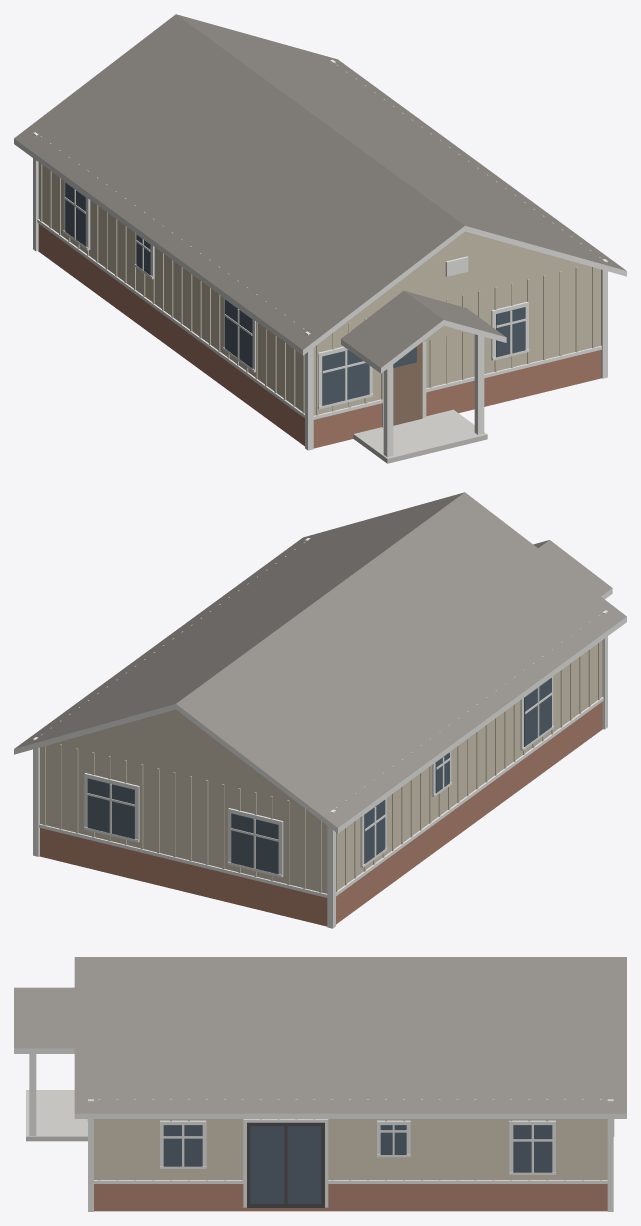
File: almond-craftsman.glb
The picture shows the model from 3 angles, top to bottom: view 1: azimuth 30°, elevation 25°; view 2: azimuth 150°, elevation 25°; view 3: azimuth 270°, elevation 25°; orthographic projection. The views are drawn at different scales.
Parts seen in each view (by area): view 1: The Almond (craftsman); view 2: The Almond (craftsman); view 3: The Almond (craftsman).
Part boxes in pixels (x1,y1,x2,y2): The Almond (craftsman): [14, 14, 626, 463]; The Almond (craftsman): [14, 492, 626, 928]; The Almond (craftsman): [14, 957, 626, 1211].
Bounding box in the file's own units: 8.38 × 4.8 × 14.38.
